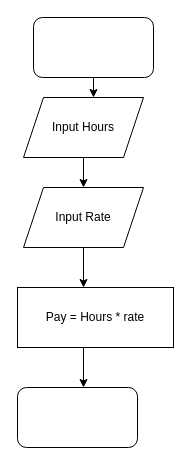
Image size: 191x465. Some labels were removed from this diagram. Here are the shapes that lost their labels. From the top down, the centre of each, then its label:
At (93,47): "Start".
At (77,417): "End".
